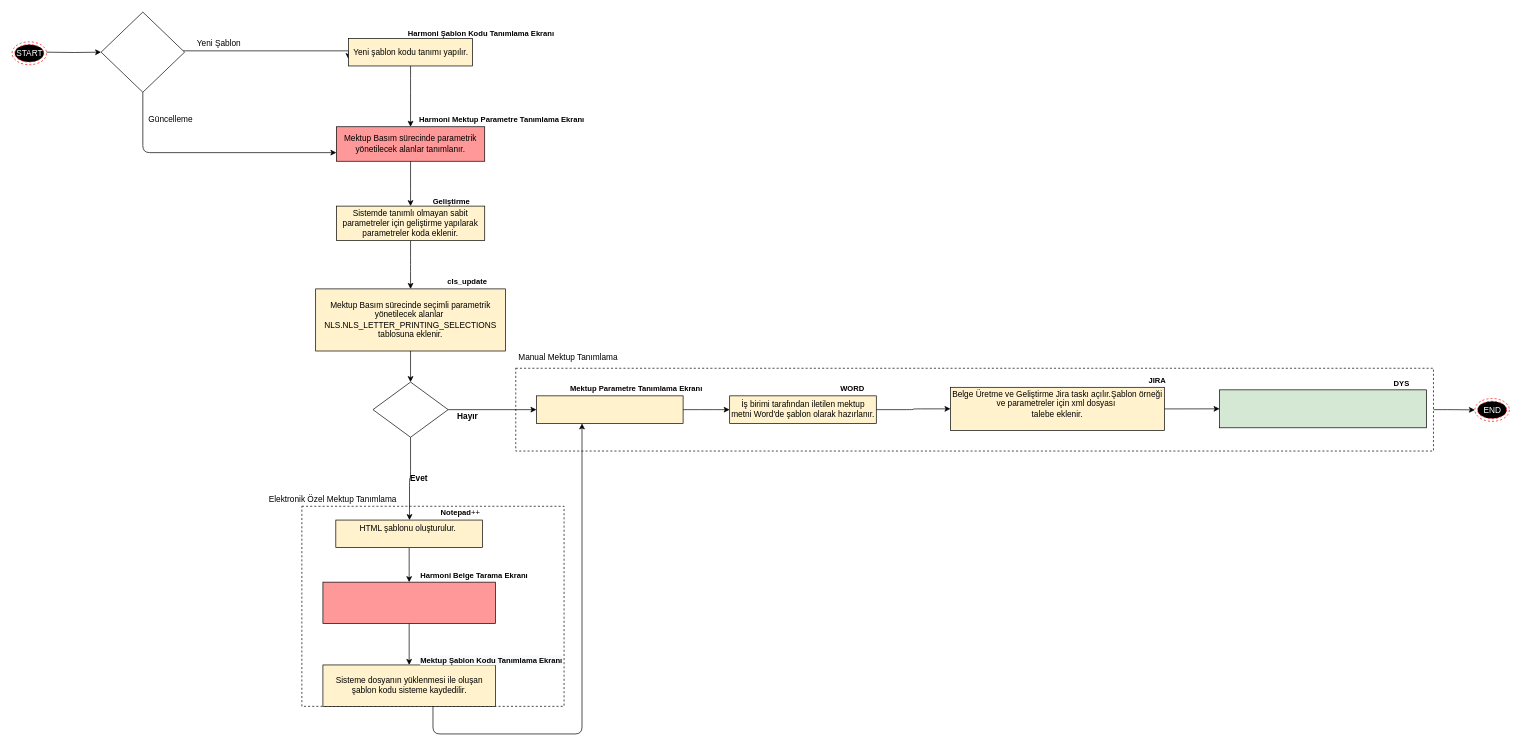
Some shapes in this 1521 by 752 pixel diagram are drawn without their labels. The shapes that lost their labels are listed below. From the top down, each one's centre as x and y in pixels, then its label:
(142,51): Yeni şablon tanımlama mı? Güncelleme mi?
(410,409): Elektronik Özel Mektup mu?
(609,409): Parametre alanları için aynı ekranda xml oluşturulur.
(1323,408): Döküman Yönetim Sisteminde tanımlar live ortama taşınır.
(408,602): Oluşturulan HTML dosyası iş birimleri tarafından sisteme yüklenir.
